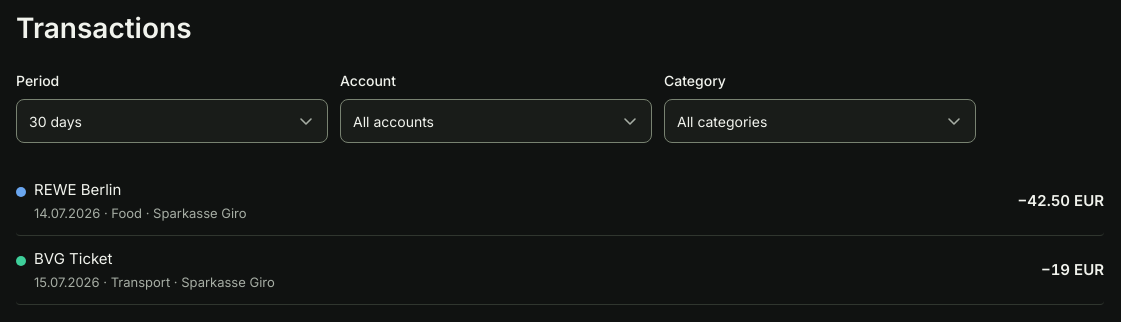
Scenario: the transactions list › drops the previous filter's rows when the reload after a filter change is refused
Expected: the text "REWE Berlin" is shown, [34, 180, 121, 199]
Select "Food" in the dropdown labelled "Category" at (820, 121), box [664, 99, 976, 143]
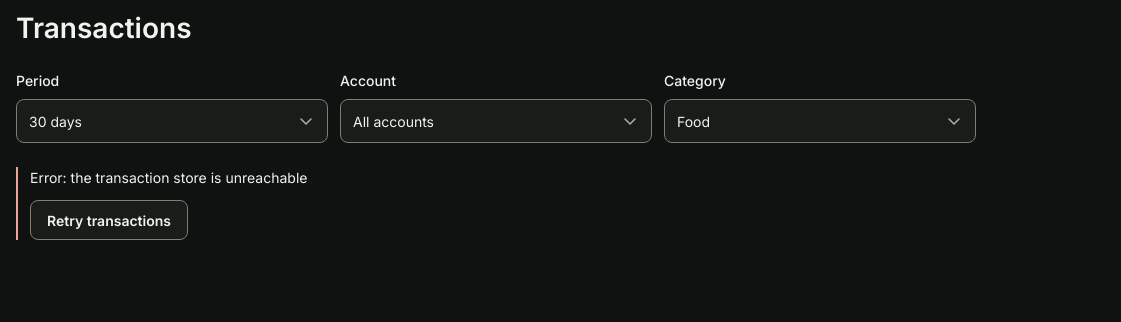
Expected: the text "Error: the transaction store is unreachable" is shown, [30, 169, 307, 186]
Expected: the button "REWE Berlin" is gone
Expected: the button "BVG Ticket" is gone
